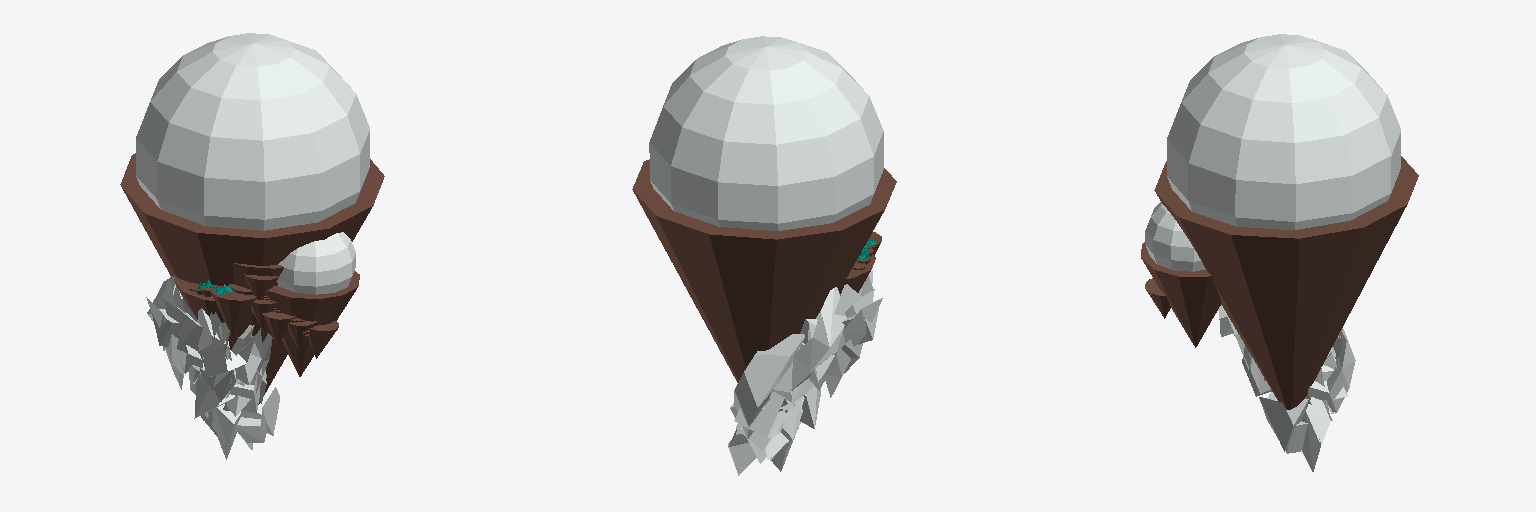
File: terrain.obj
3 renders of one model, left to right at view 1: azimuth 30°, elevation 25°; view 2: azimuth 150°, elevation 25°; view 3: azimuth 270°, elevation 25°, orthographic.
Parts seen in each view (by area): view 1: group[number redacted], group[number redacted], group[number redacted], group[number redacted], group[number redacted], group[number redacted], group[number redacted], group[number redacted]; view 2: group[number redacted], group[number redacted], group[number redacted], group[number redacted], group[number redacted], group[number redacted]; view 3: group[number redacted], group[number redacted], group[number redacted], group[number redacted], group[number redacted], group[number redacted].
Boxes of the visible parts, x1=… form: group[number redacted]: x1=136, y1=33, x2=369, y2=230; group[number redacted]: x1=120, y1=153, x2=384, y2=404; group[number redacted]: x1=147, y1=276, x2=272, y2=418; group[number redacted]: x1=277, y1=232, x2=355, y2=294; group[number redacted]: x1=193, y1=375, x2=279, y2=459; group[number redacted]: x1=146, y1=297, x2=186, y2=389; group[number redacted]: x1=176, y1=307, x2=212, y2=390; group[number redacted]: x1=152, y1=309, x2=203, y2=359; group[number redacted]: x1=649, y1=36, x2=883, y2=230; group[number redacted]: x1=632, y1=159, x2=896, y2=382; group[number redacted]: x1=734, y1=334, x2=804, y2=450; group[number redacted]: x1=791, y1=271, x2=873, y2=428; group[number redacted]: x1=728, y1=391, x2=806, y2=475; group[number redacted]: x1=824, y1=298, x2=882, y2=397; group[number redacted]: x1=1167, y1=34, x2=1400, y2=229; group[number redacted]: x1=1141, y1=156, x2=1418, y2=409; group[number redacted]: x1=1242, y1=336, x2=1341, y2=471; group[number redacted]: x1=1145, y1=202, x2=1205, y2=271; group[number redacted]: x1=1308, y1=328, x2=1355, y2=413; group[number redacted]: x1=1218, y1=305, x2=1270, y2=393.
Bounding box in the file's own units: 0.1771 × 0.3113 × 0.1861.